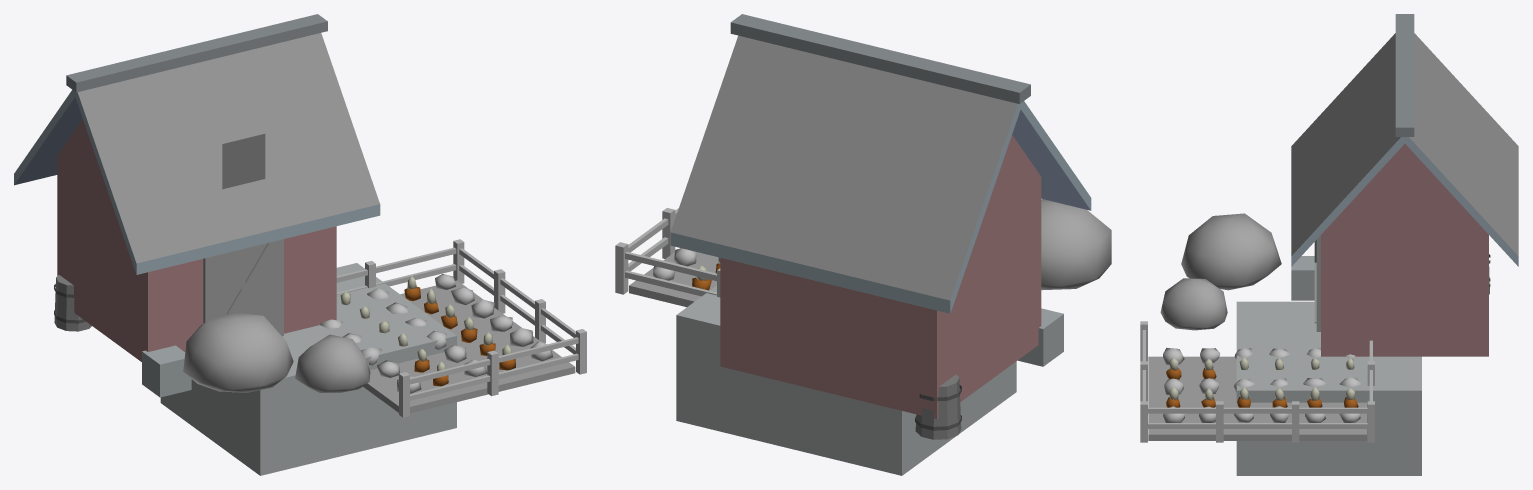
The model's file is farm.glb.
The picture shows the model from 3 angles, left to right: view 1: azimuth 30°, elevation 25°; view 2: azimuth 150°, elevation 25°; view 3: azimuth 270°, elevation 25°; orthographic projection. The views are drawn at different scales.
Visible parts, largest first — view 1: farm; view 2: farm; view 3: farm.
Boxes of the visible parts, x1=… form: farm: x1=14, y1=14, x2=586, y2=475; farm: x1=615, y1=14, x2=1111, y2=475; farm: x1=1140, y1=14, x2=1518, y2=475.
Size of the model in its own units: 4.75 by 4.31 by 4.5.
